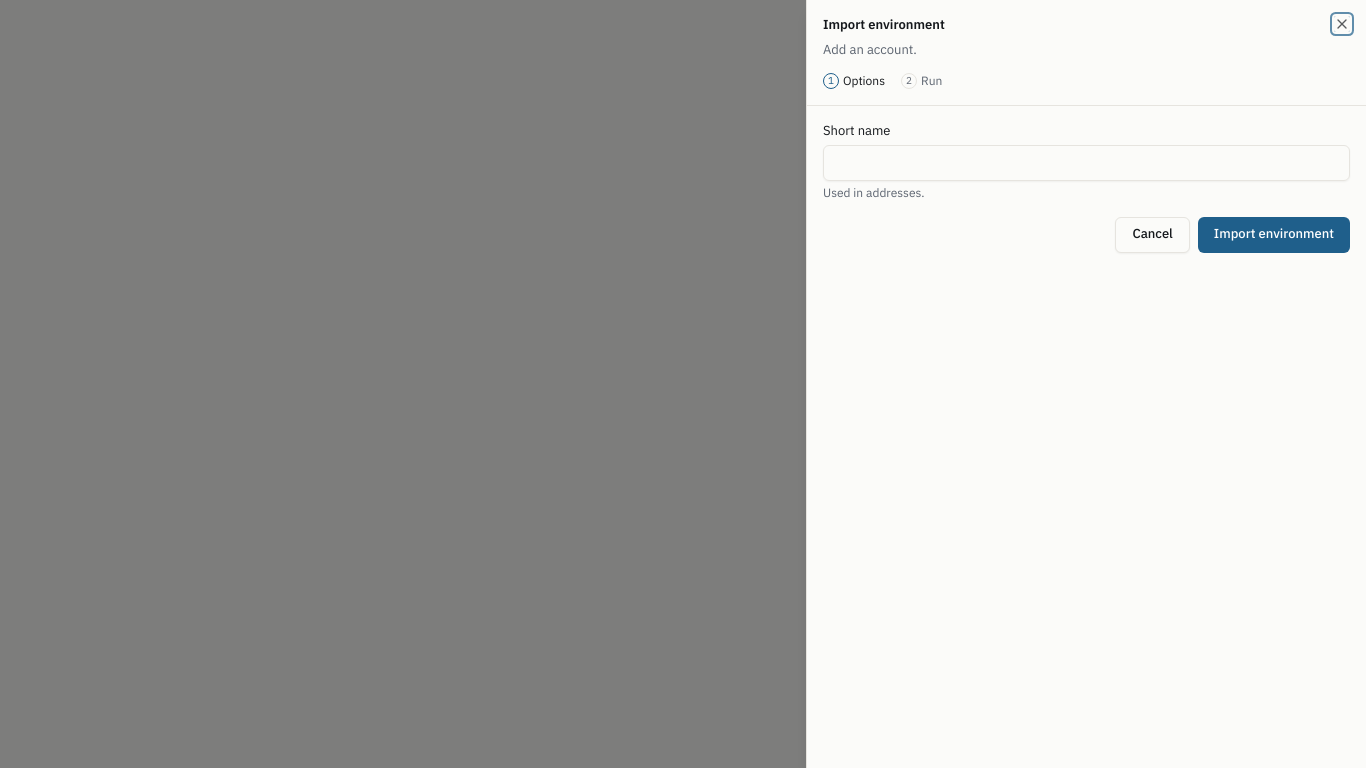
Test case: TaskPanel flows › shows the server's sentences as given: under the labelled field they name, and the rest above
Type "Staging" into the field labelled "Short name" at coordinates (1086, 163), box top-left (823, 145), bottom-right (1350, 181)
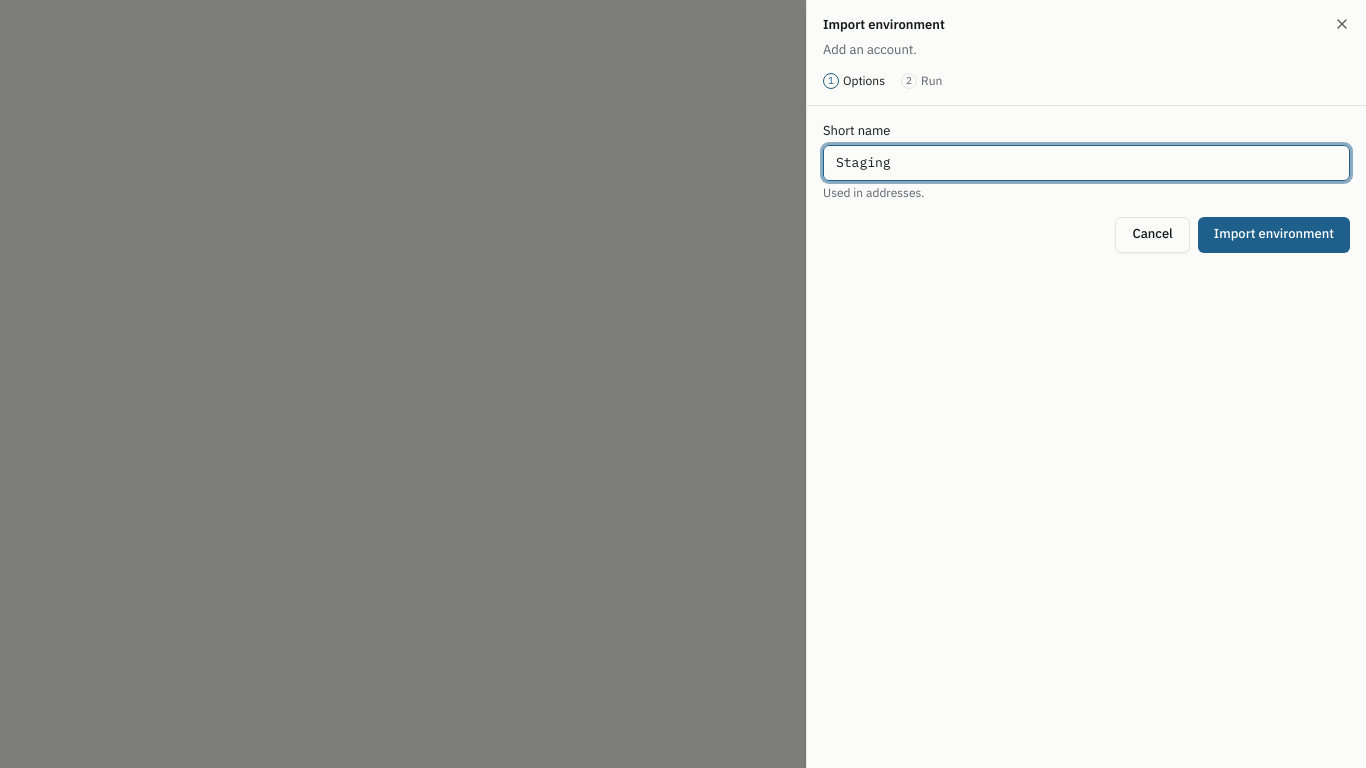
Click the button "Import environment" at coordinates (1274, 235), box top-left (1198, 217), bottom-right (1350, 253)
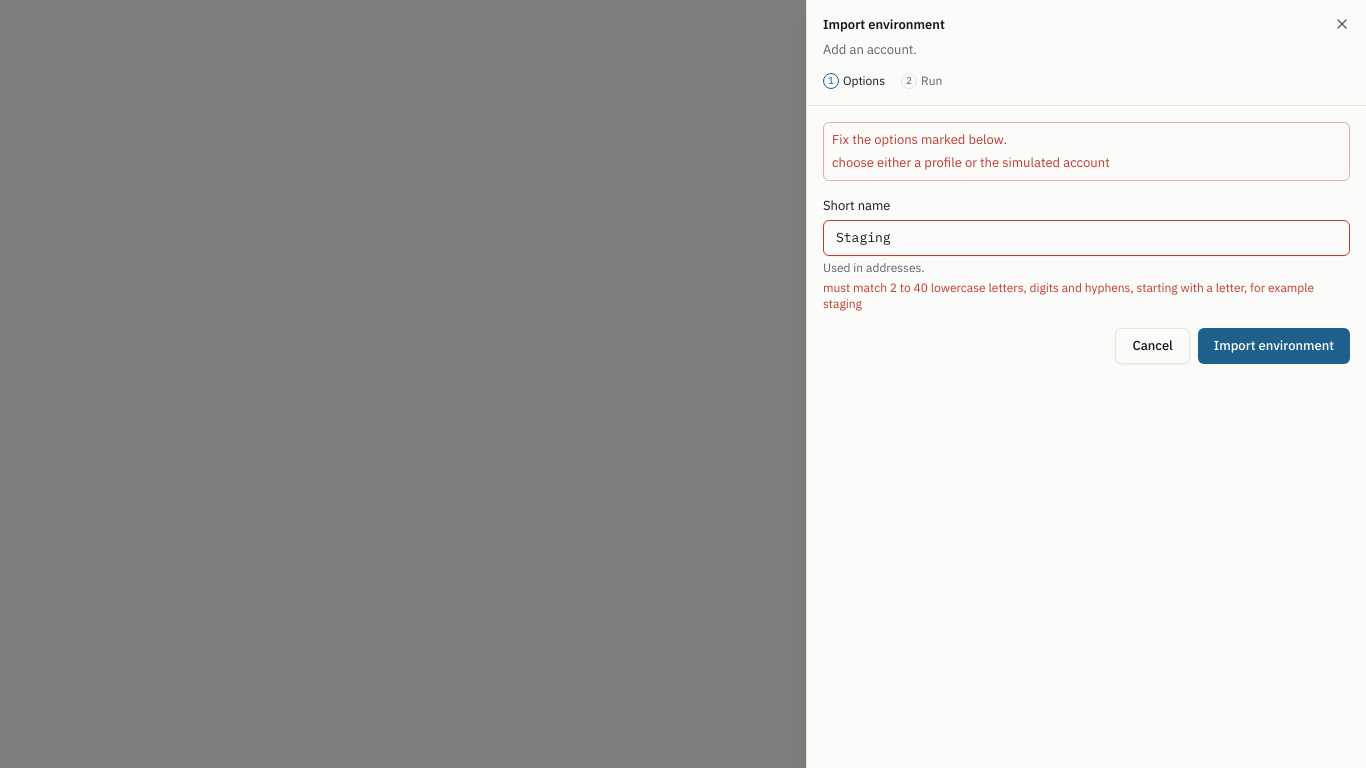
Now the text "must match 2 to 40 lowercase letters, digits and hyphens, starting with a letter, for example staging" is shown, box top-left (823, 280), bottom-right (1314, 311)
Now the list item "choose either a profile or the simulated account" is shown, box top-left (832, 154), bottom-right (1110, 171)
